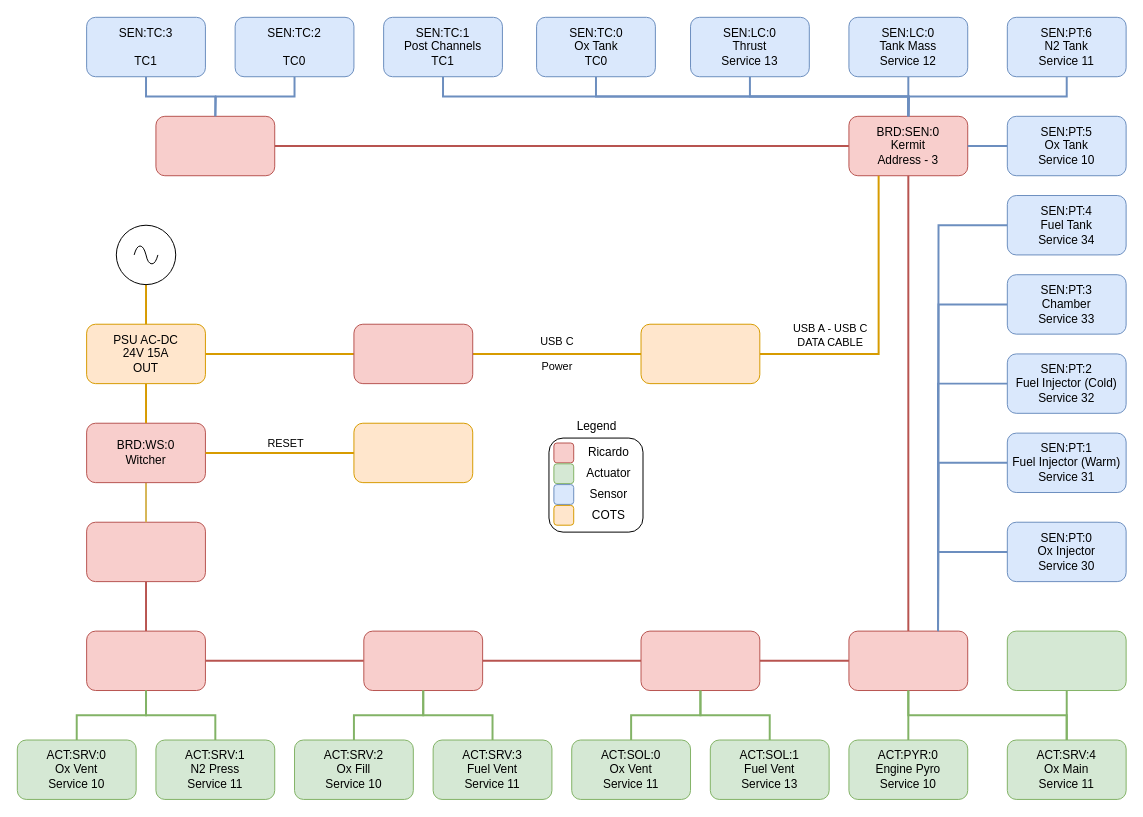
Some shapes in this 1143 by 817 pixel diagram are drawn without their labels. Here are the shapes that lost their labels. From the top down, the centre of each, then its label:
At (215,145): "BRD:SEN:1 Kermit Address - 9".
At (145,254): "230V 50Hz".
At (413,353): "BRD:ACT:1 Pi Chad 5V 12A Out".
At (700,353): "Raspberry Pi 5".
At (413,452): "12/24V to 5V Automotive Buck".
At (145,551): "BRD:PDU:0 Lightning McQueen Address - 7".
At (145,660): "BRD:ACT:0 Chad Address - 8".
At (423,660): "BRD:ACT:1 Chad Address - 5".
At (700,660): "BRD:HPA:0 Flint and Steel Address - 6".
At (908,660): "BRD:ECU:0 Stark Address - 2".
At (1066,660): "ACT:SRV:5 Fuel Main Service 12".
